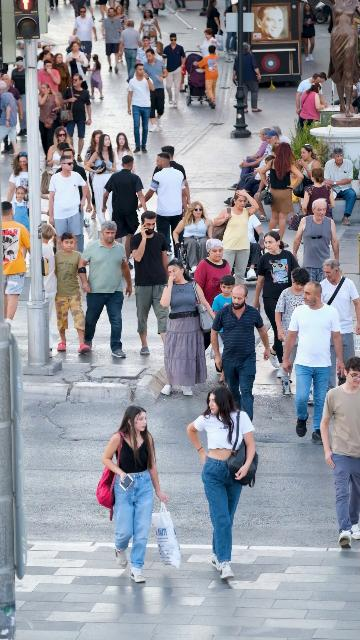person: (187, 386, 256, 580), (102, 405, 169, 584), (281, 281, 346, 445), (210, 284, 272, 423), (320, 356, 360, 548), (160, 259, 216, 396), (78, 220, 132, 359), (253, 231, 301, 370), (129, 210, 170, 355), (318, 258, 360, 386), (103, 154, 149, 270), (143, 152, 188, 265), (275, 266, 312, 399), (50, 232, 90, 355), (259, 143, 305, 241), (223, 130, 280, 205), (213, 190, 258, 284), (292, 198, 340, 283), (48, 156, 89, 254), (0, 201, 31, 326), (83, 134, 116, 239), (172, 201, 214, 272), (60, 73, 92, 162), (226, 128, 271, 191), (193, 238, 232, 309), (322, 147, 356, 226), (127, 63, 156, 154), (52, 148, 92, 212), (152, 145, 191, 207), (40, 224, 58, 347), (232, 42, 263, 113), (142, 49, 168, 133), (301, 168, 336, 225), (161, 33, 186, 108), (238, 214, 265, 282), (295, 72, 327, 128), (117, 19, 145, 82), (192, 45, 219, 109), (294, 144, 322, 205), (2, 74, 27, 137), (80, 130, 104, 195), (298, 83, 328, 132), (0, 81, 19, 158), (101, 8, 123, 73), (211, 275, 236, 332), (72, 7, 97, 62), (65, 41, 89, 91), (6, 185, 30, 234), (7, 152, 28, 205), (111, 133, 137, 175), (254, 154, 274, 208), (50, 53, 73, 99), (139, 9, 162, 54), (10, 57, 25, 117), (36, 60, 61, 95), (86, 54, 104, 100), (196, 28, 224, 57), (224, 0, 239, 52), (206, 0, 222, 36), (136, 36, 152, 66), (115, 4, 128, 33), (38, 50, 53, 70), (65, 35, 78, 53), (37, 45, 51, 60)
